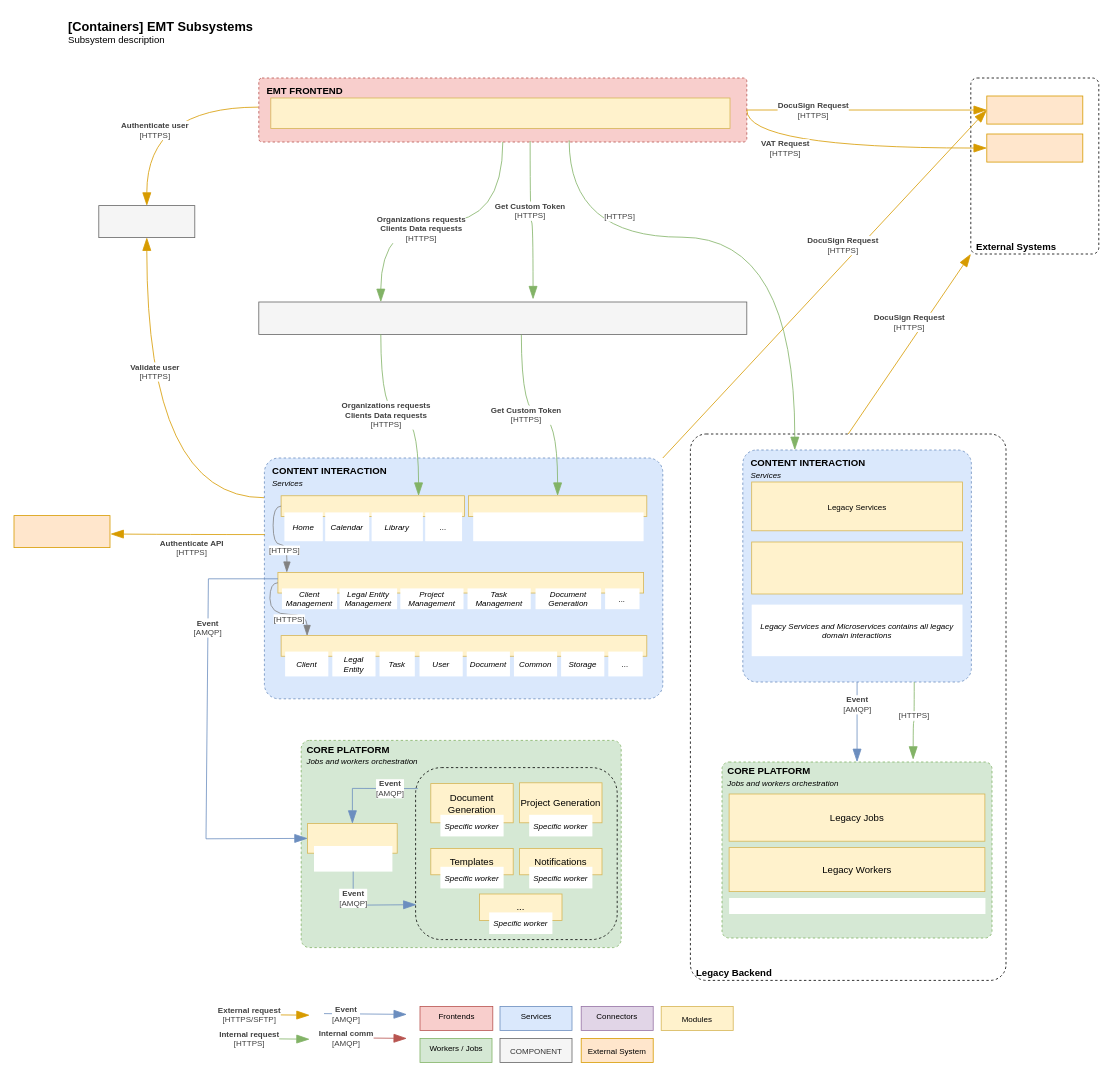
This 1113x1076 diagram has some shape labels left out. Each missing label, with the centre of its shape:
Authorization API: pixel 557 505
CIAM: pixel 146 221
Docusign: pixel 1034 109
ENTRA: pixel 61 531
Experience API's: pixel 372 505
GATEWAY: pixel 502 317
Legacy Microservices: pixel 856 567
Legacy scheduled jobs and legacy background services: pixel 857 906
MVC Portal: pixel 500 112
Process API's: pixel 460 582
System API's: pixel 463 645
Taks Management: pixel 353 858
Validate and Generate Custom Token: pixel 558 526
VIES: pixel 1034 147
Worker Manager: pixel 352 838
